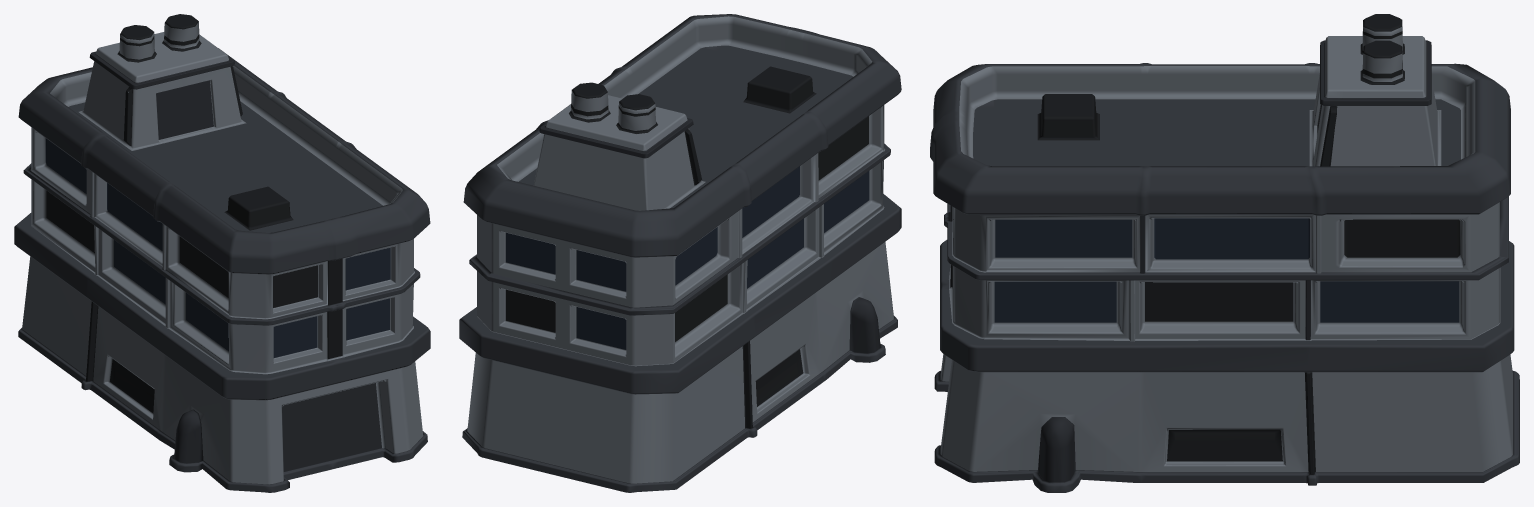
File: 3_floors_1.fbx
3 renders of one model, left to right at view 1: azimuth 30°, elevation 25°; view 2: azimuth 150°, elevation 25°; view 3: azimuth 270°, elevation 25°, orthographic. The views are drawn at different scales.
Visible parts, largest first — view 1: Cube.006; view 2: Cube.006; view 3: Cube.006.
Boxes of the visible parts, box(x1,y1,x2,y2) form: Cube.006: box(14, 14, 430, 492); Cube.006: box(459, 14, 901, 492); Cube.006: box(930, 14, 1519, 492).
Bounding box in the file's own units: 636 × 805 × 1110.
